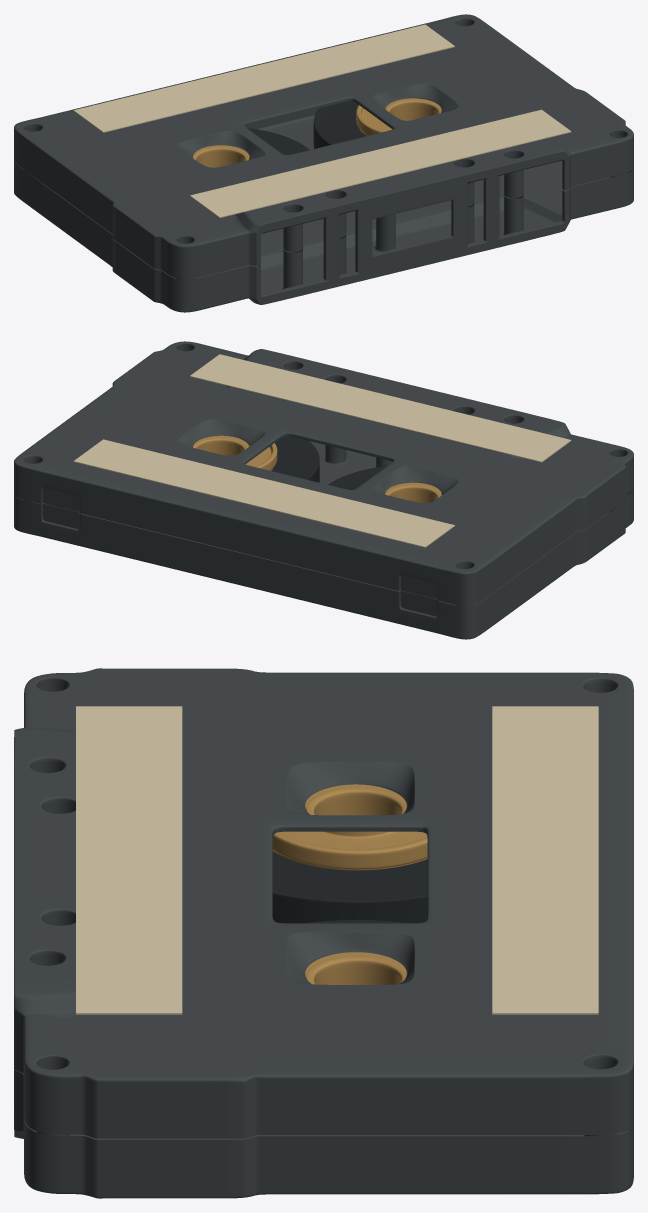
The model's file is soultape_cassette.fbx.
3 views of the same model, one above another, from view 1: azimuth 30°, elevation 25°; view 2: azimuth 150°, elevation 25°; view 3: azimuth 270°, elevation 25° (orthographic). The views are drawn at different scales.
Parts seen in each view (by area): view 1: Shell, LabelLower, LabelUpper, Axles, TapeRibbon; view 2: Shell, LabelLower, LabelUpper, TapeRibbon, Axles; view 3: Shell, LabelLower, LabelUpper, Axles, TapeRibbon.
Part boxes in pixels (x1,y1,x2,y2): Shell: (14,14,633,312); LabelLower: (190,109,571,217); LabelUpper: (73,24,454,132); Axles: (193,98,441,167); TapeRibbon: (247,101,366,154); Shell: (14,341,633,639); LabelLower: (190,354,571,462); LabelUpper: (73,439,454,547); TapeRibbon: (271,436,386,489); Axles: (193,435,441,503); Shell: (14,668,633,1198); LabelLower: (76,706,182,1014); LabelUpper: (492,706,598,1014); Axles: (272,784,427,984); TapeRibbon: (272,852,427,923).
Bounding box in the file's own units: 0.11 × 0.0182 × 0.07.
